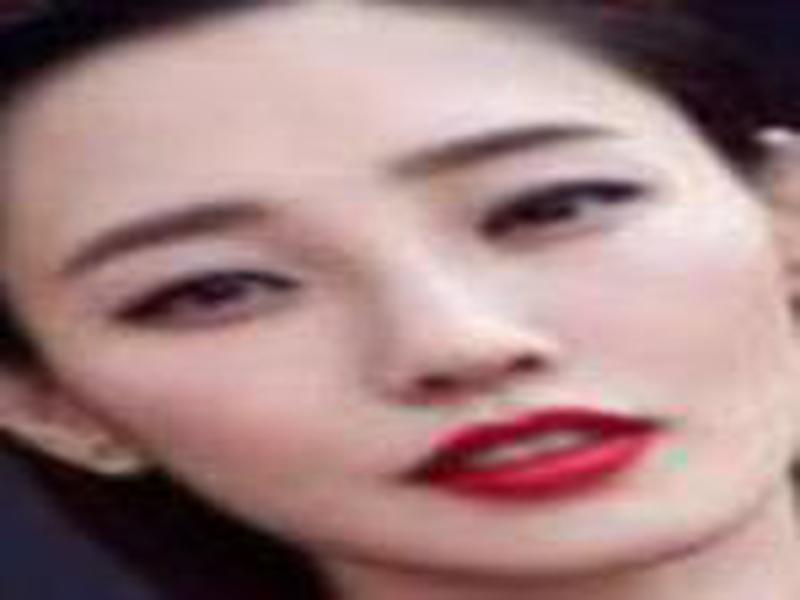without_mask: (6, 33, 793, 576)
